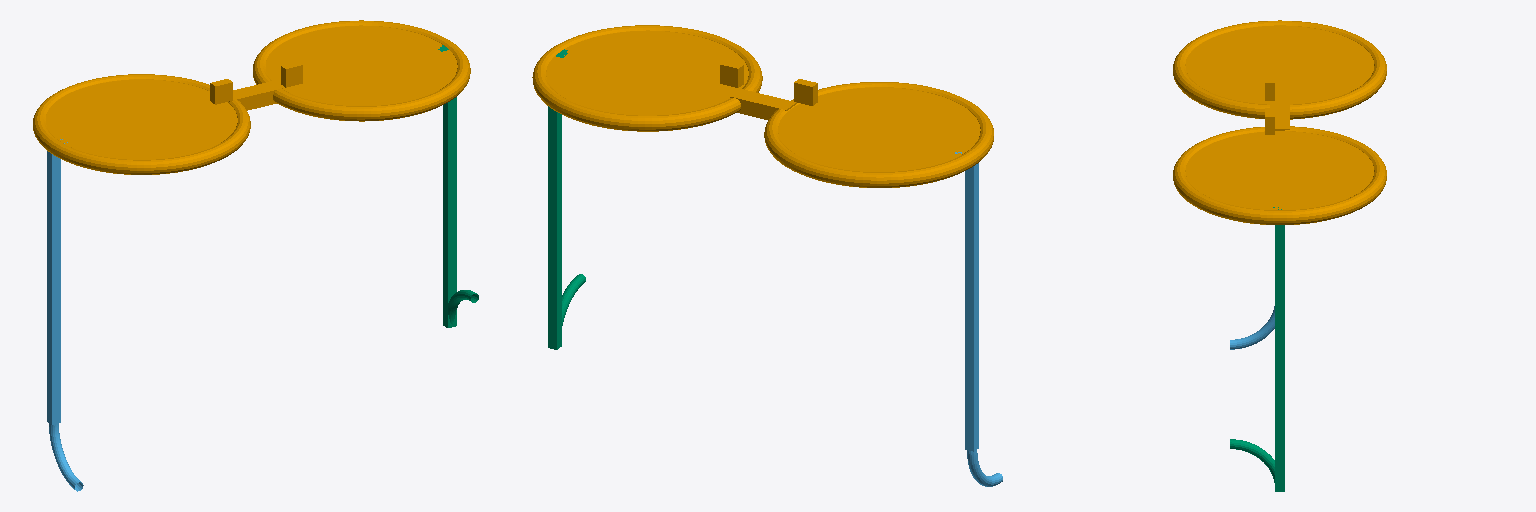
The robot description file, URDF, robot "eyeglasses_8":
<?xml version="1.0"?>
<robot name="eyeglasses_8">
  <link name="frame">
    <visual>
      <geometry>
        <mesh filename="obj_parts/group_output/frame.obj" />
      </geometry>
    </visual>
  </link>
  <link name="leftTemple">
    <visual>
      <geometry>
        <mesh filename="obj_parts/group_output/leftTemple.obj" />
      </geometry>
      <origin xyz="44.0 0.0 0.0" rpy="0.0 0.0 0.0" />
    </visual>
  </link>
  <link name="rightTemple">
    <visual>
      <geometry>
        <mesh filename="obj_parts/group_output/rightTemple.obj" />
      </geometry>
      <origin xyz="-44.0 0.0 0.0" rpy="0.0 0.0 0.0" />
    </visual>
  </link>
  <joint name="frame_to_leftTemple_hinge" type="revolute">
    <parent link="frame" />
    <child link="leftTemple" />
    <origin xyz="-44.0 0.0 0.0" rpy="0 0 0" />
    <axis xyz="0 1 0" />
    <limit lower="0.0" upper="2.2" effort="1.0" velocity="1.0" />
  </joint>
  <joint name="frame_to_rightTemple_hinge" type="revolute">
    <parent link="frame" />
    <child link="rightTemple" />
    <origin xyz="44.0 0.0 0.0" rpy="0 0 0" />
    <axis xyz="0 1 0" />
    <limit lower="0.0" upper="2.2" effort="1.0" velocity="1.0" />
  </joint>
</robot>

--- What the picture shows (computed from the rendered views, not written in the file) ---
The picture shows the robot from 3 angles, left to right: view 1: azimuth 30°, elevation 25°; view 2: azimuth 150°, elevation 25°; view 3: azimuth 270°, elevation 25°; orthographic projection.
Robot: eyeglasses_8 — 3 links, 2 joints (2 revolute); root link frame; default pose: every joint at zero.
Visible links, largest first — view 1: frame, leftTemple, rightTemple; view 2: frame, leftTemple, rightTemple; view 3: frame, rightTemple, leftTemple.
Link boxes in pixels (box(x1,y1,x2,y2)): frame: box(33, 20, 470, 174); leftTemple: box(47, 139, 83, 491); rightTemple: box(438, 45, 478, 327); frame: box(532, 25, 993, 187); leftTemple: box(955, 152, 1002, 486); rightTemple: box(548, 49, 585, 349); frame: box(1173, 20, 1386, 224); rightTemple: box(1230, 207, 1284, 491); leftTemple: box(1230, 306, 1274, 349).
Bounding box of the posed robot: 93 × 43 × 77 m (x, y, z).
Meshes: 3 distinct files referenced, 3 mesh visuals loaded (3 OBJ).
